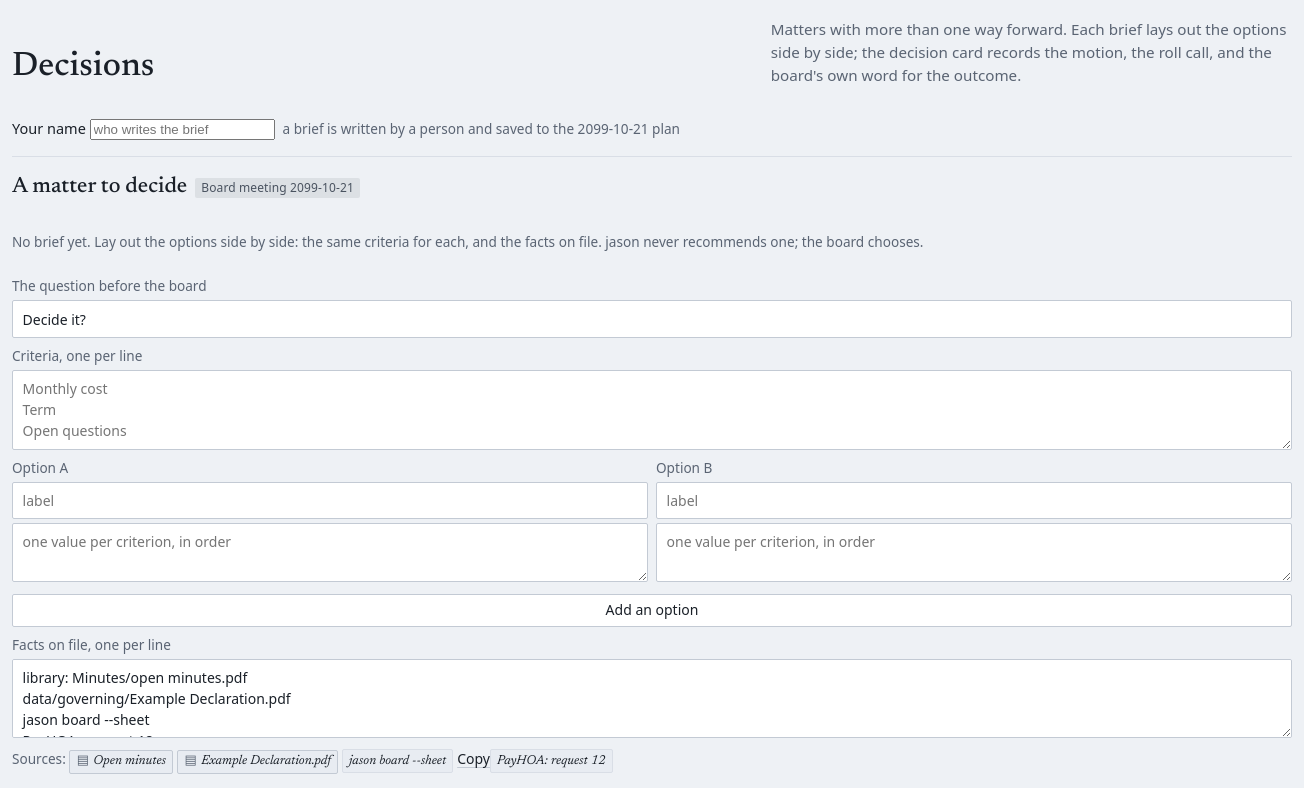
Test: DecisionsView: the brief's sources as Doc chips › with no brief yet, the form seeds the facts from the strings and shows the sources as chips
Click the button with aria-label "Open Example Declaration.pdf": [258, 762] box top-left (177, 750), bottom-right (338, 774)
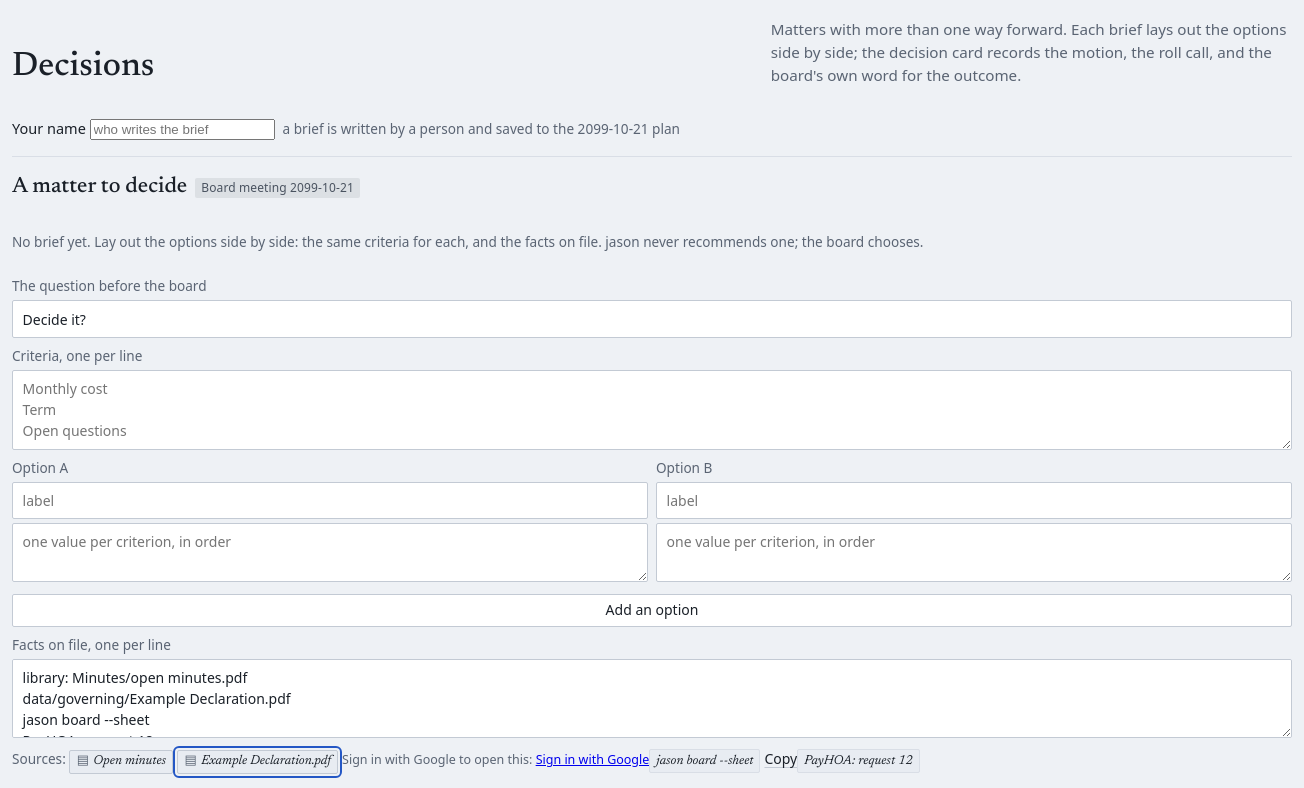
Expected: the text "Sign in with Google to open this: Sign in with Google" is shown, top-left (342, 751), bottom-right (649, 768)
